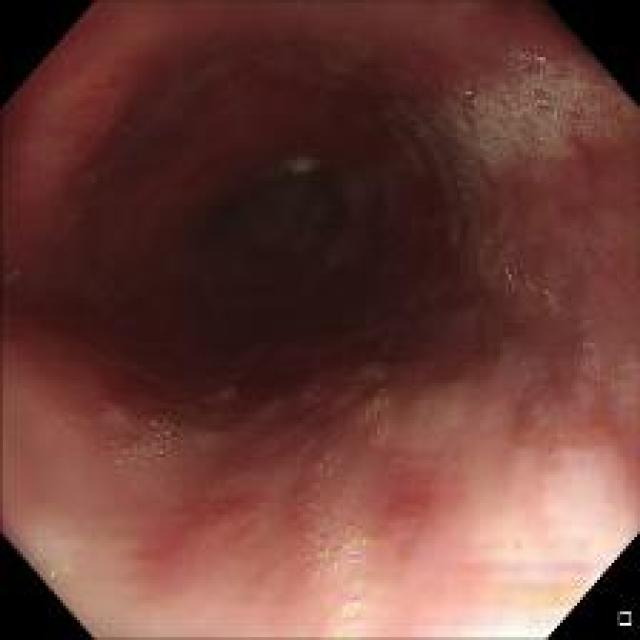bubbles: (419, 54, 624, 190), (301, 424, 386, 632), (565, 322, 631, 408), (111, 405, 178, 470), (502, 259, 565, 312)
color misalignment: (314, 532, 365, 631), (149, 416, 170, 462), (580, 354, 602, 380), (569, 96, 586, 124), (542, 286, 558, 309), (501, 266, 514, 294), (2, 268, 16, 285)
contrast: (155, 139, 418, 370)
specularity: (535, 54, 548, 62)
